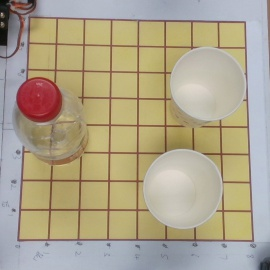bottle: (9, 76, 94, 173)
cup: (164, 46, 246, 137), (131, 148, 222, 230)
